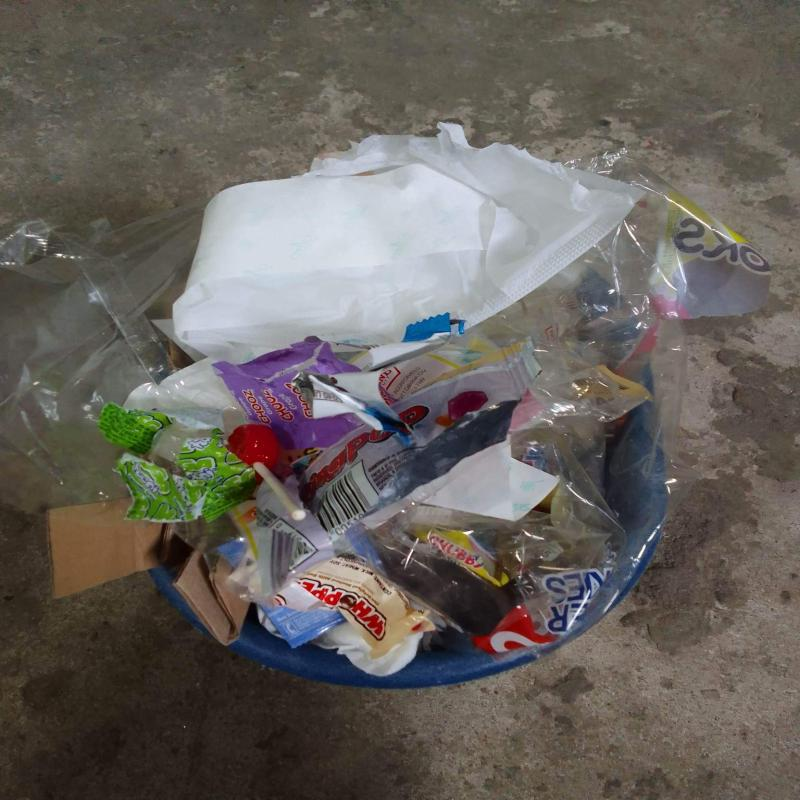cardboard: (48, 504, 165, 600), (172, 552, 250, 646)
food wrapper: (254, 370, 527, 591), (97, 402, 263, 524), (276, 558, 436, 659)
paper: (171, 122, 646, 366)
plastic bag: (349, 146, 774, 658), (1, 196, 211, 518)
